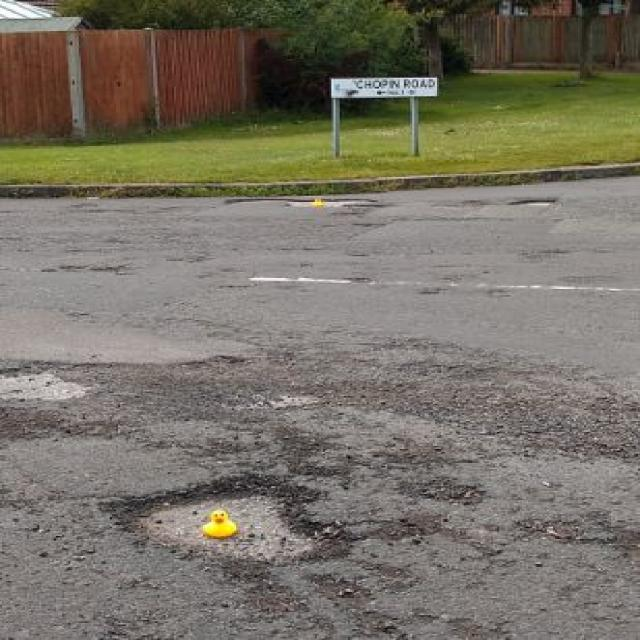pothole: (100, 466, 362, 567), (0, 355, 97, 408)
